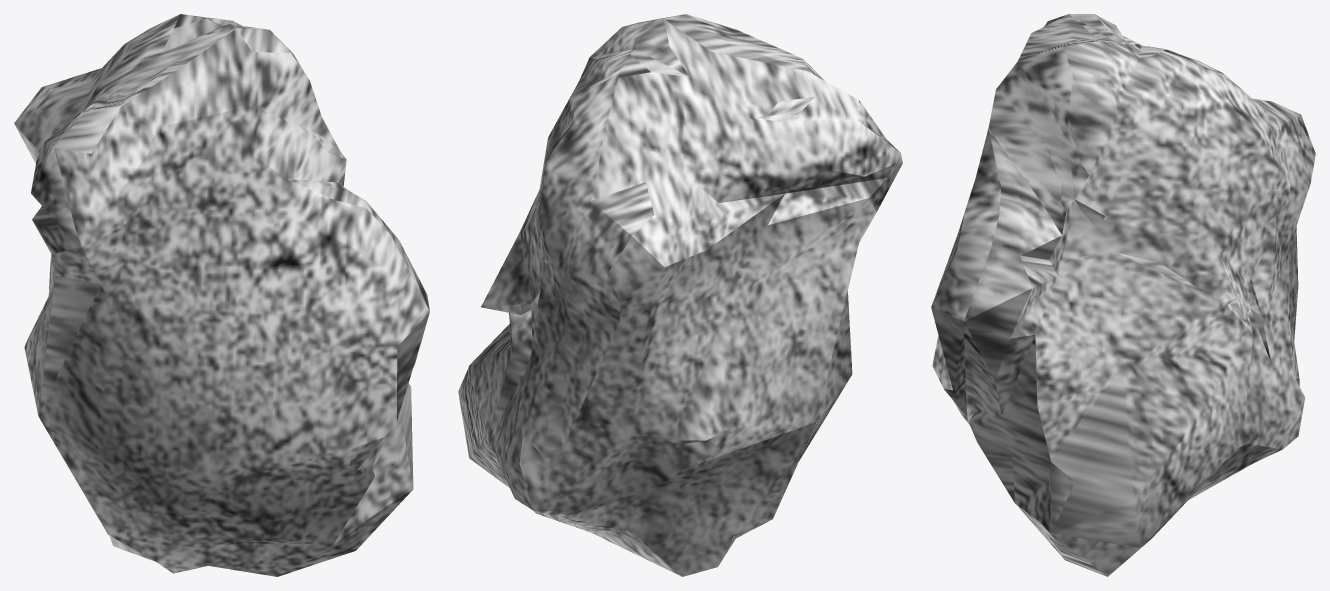
File: Rock_Asset_14.fbx
The picture shows the model from 3 angles, left to right: view 1: azimuth 30°, elevation 25°; view 2: azimuth 150°, elevation 25°; view 3: azimuth 270°, elevation 25°; orthographic projection. The views are drawn at different scales.
Parts seen in each view (by area): view 1: Rock_Asset; view 2: Rock_Asset; view 3: Rock_Asset.
Boxes of the visible parts, box(x1,y1,x2,y2) form: Rock_Asset: box(14, 14, 429, 576); Rock_Asset: box(458, 14, 902, 576); Rock_Asset: box(931, 14, 1315, 576).
Size of the model in its own units: 1.29 by 1.69 by 1.2.
Materials: 1 (1 with a texture image).
